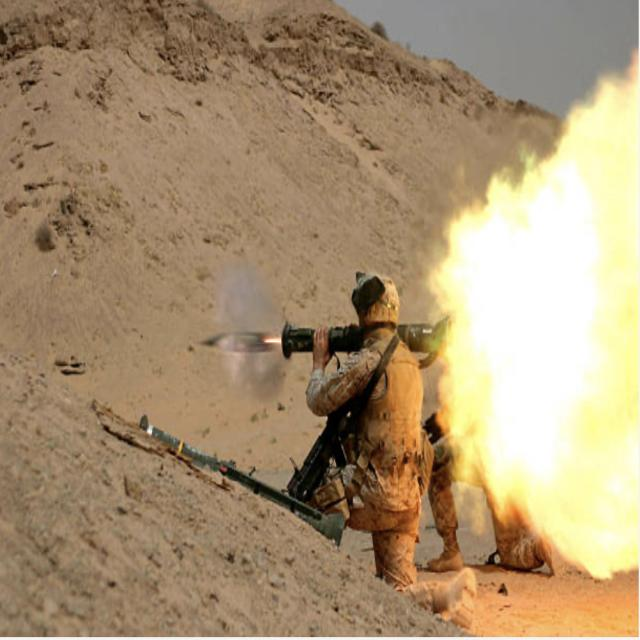bazooka: (187, 314, 468, 373)
